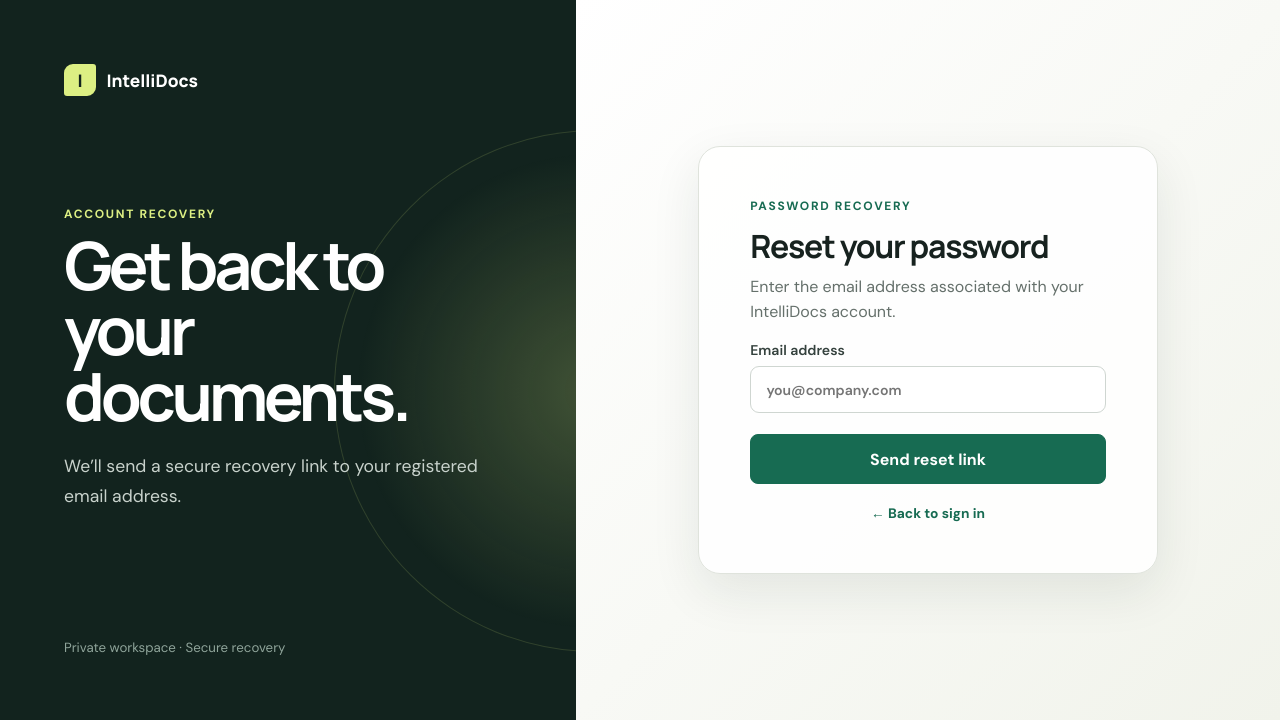
Test: ForgotPasswordPage › requests a recovery email without revealing whether the account exists
The image size is (1280, 720).
In the field labelled "Email address": (928, 390) [750,366,1106,413], type "user@example.com"
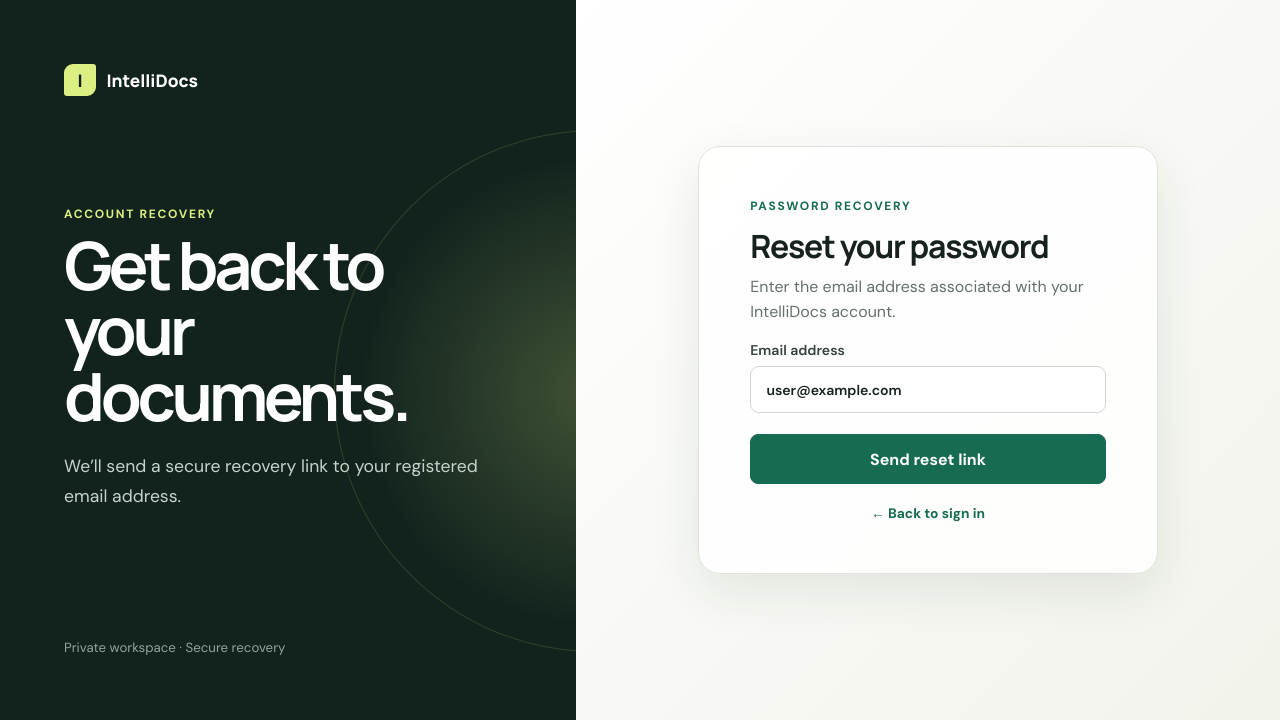
Click the button "Send reset link": (928, 459) [750,434,1106,484]
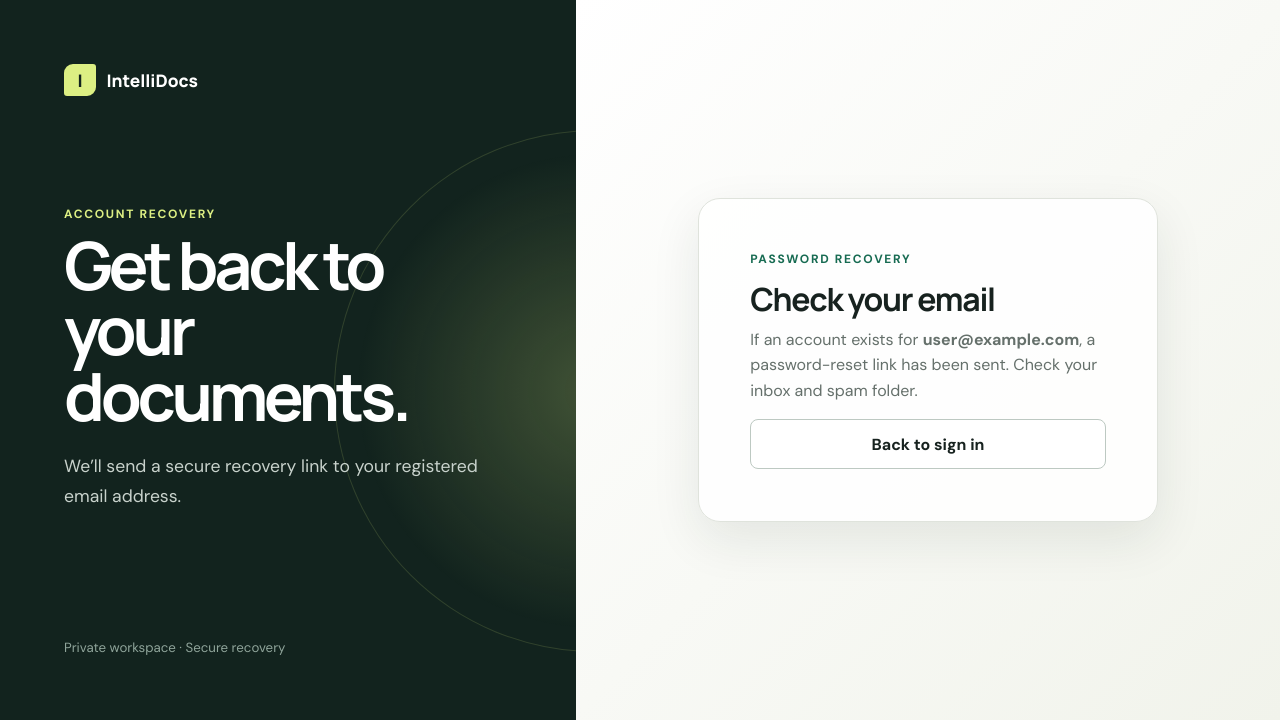
Expected: the heading "Check your email" is shown, [750,277,995,321]
Expected: the text "If an account exists" is shown, [750,328,923,350]
